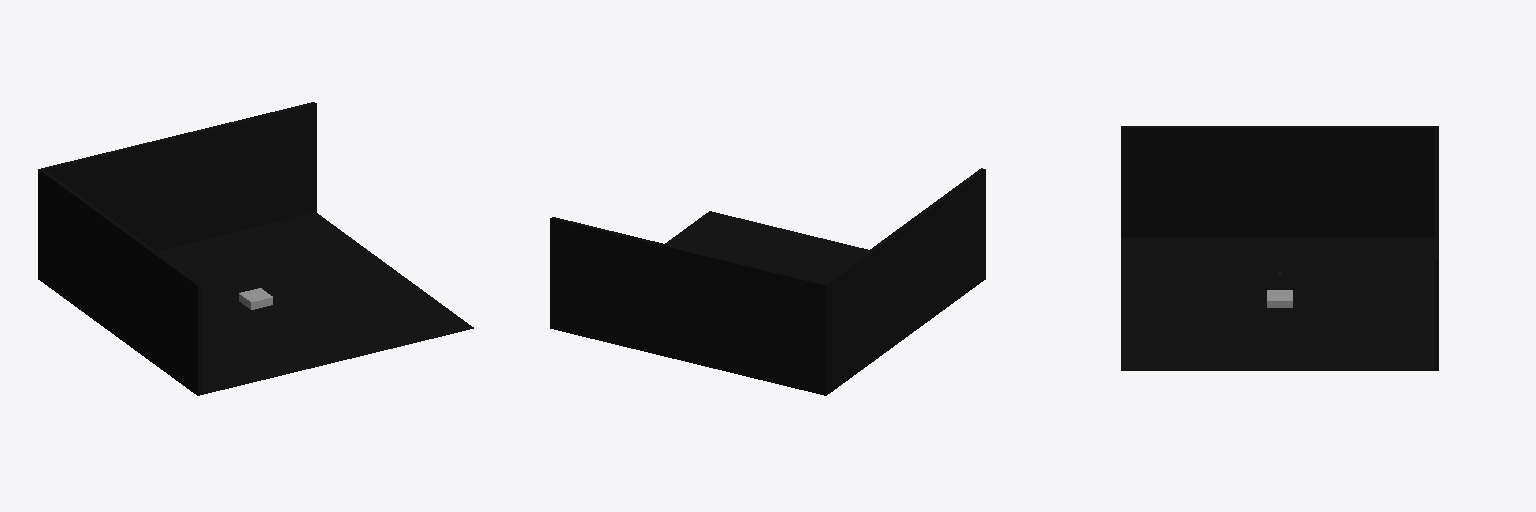
The model's file is room.obj.
The picture shows the model from 3 angles: view 1: azimuth 30°, elevation 25°; view 2: azimuth 150°, elevation 25°; view 3: azimuth 270°, elevation 25°; orthographic projection.
Visible parts, largest first — view 1: pCube1_Untitled, Cube; view 2: pCube1_Untitled; view 3: pCube1_Untitled.
Part boxes in pixels (left/top/right/bottom): pCube1_Untitled: left=38, top=102, right=473, bottom=395; Cube: left=239, top=288, right=272, bottom=309; pCube1_Untitled: left=550, top=168, right=985, bottom=395; pCube1_Untitled: left=1121, top=126, right=1438, bottom=370.
Size of the model in its own units: 25 by 10.78 by 25.